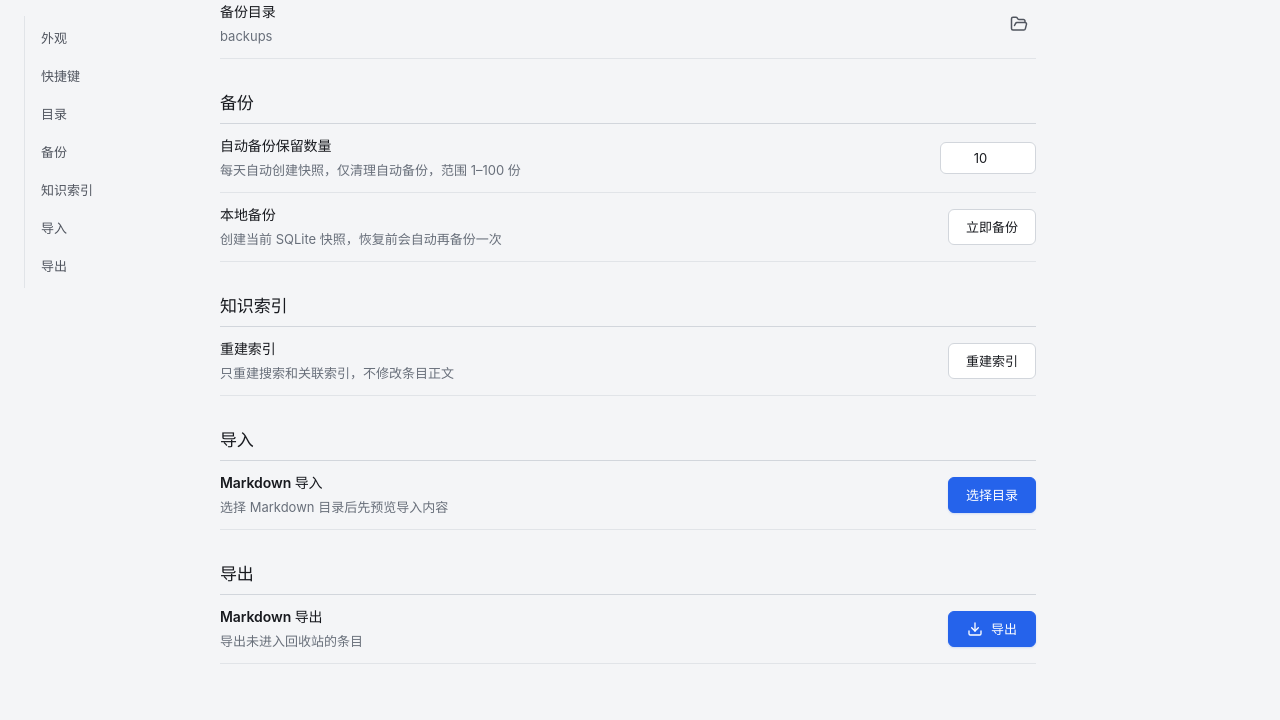
Test case: SettingsView › shows rebuild failures as an alert
(page scrolled)
Click the button with aria-label "重建知识索引" at (992, 361), box [948, 343, 1036, 379]
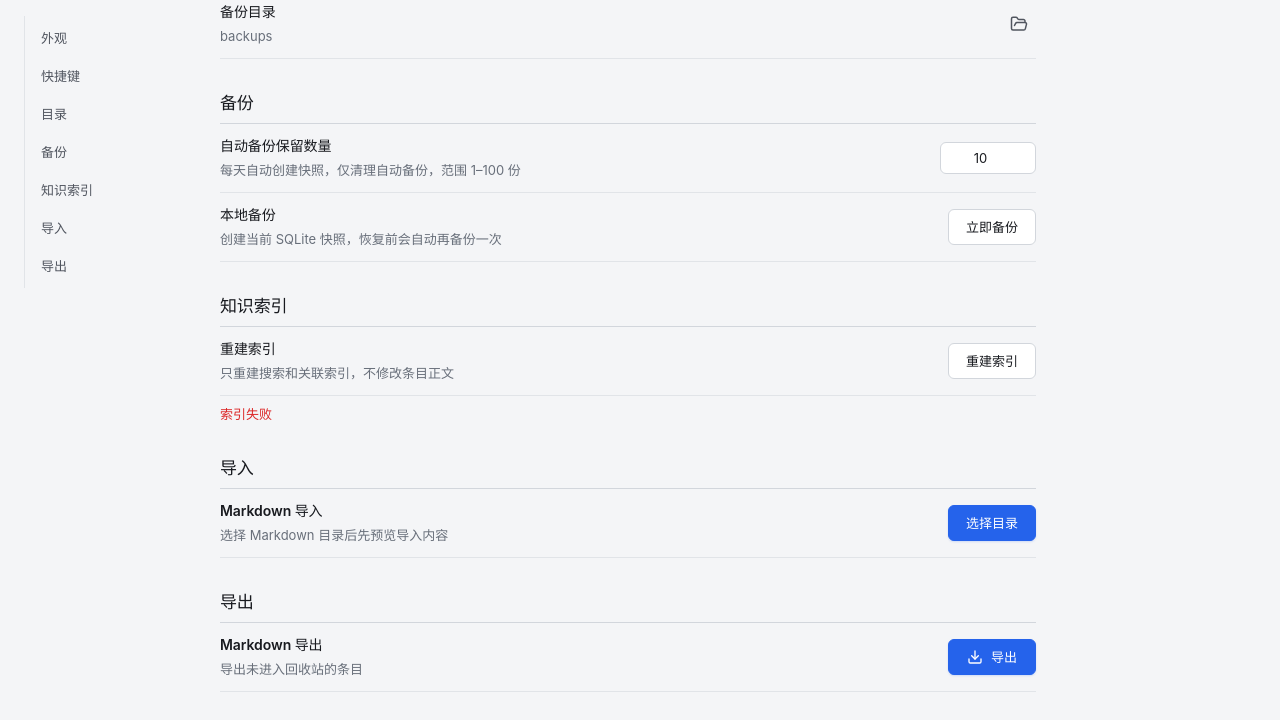
Now the message "索引失败" is shown, box [220, 406, 272, 422]
